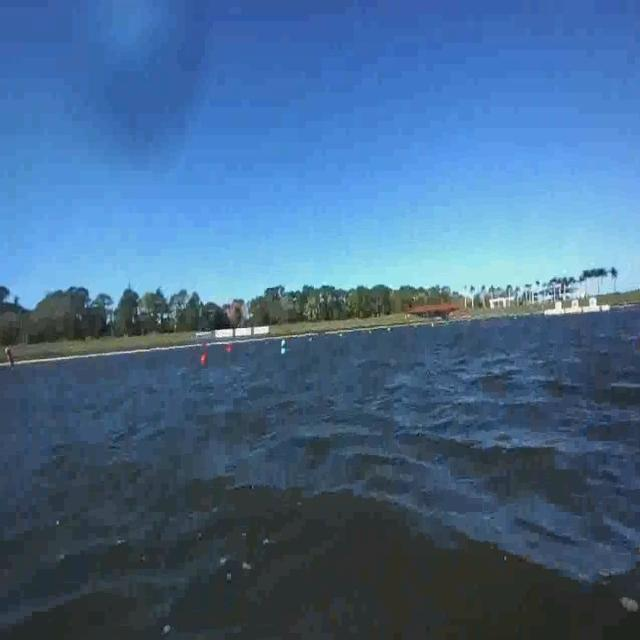red-buoy: (200, 349, 208, 371)
